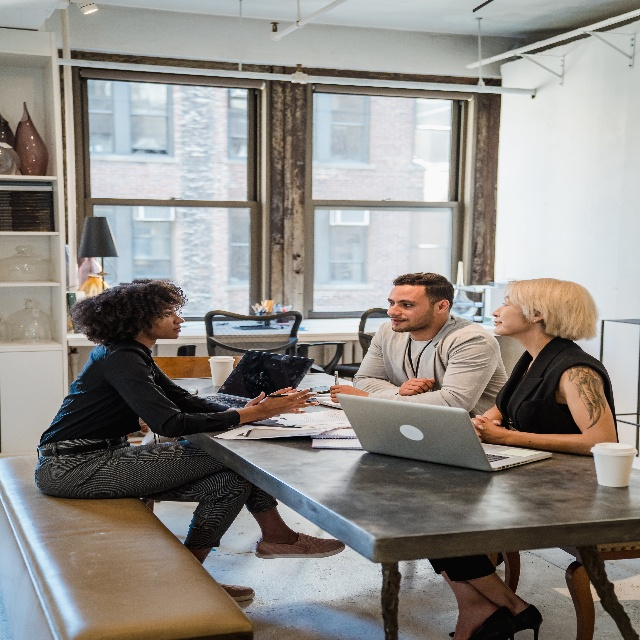Sin_guantes: (244, 387, 306, 422), (261, 386, 321, 417), (474, 414, 504, 445), (471, 417, 501, 442), (398, 378, 435, 396), (329, 384, 362, 403)
